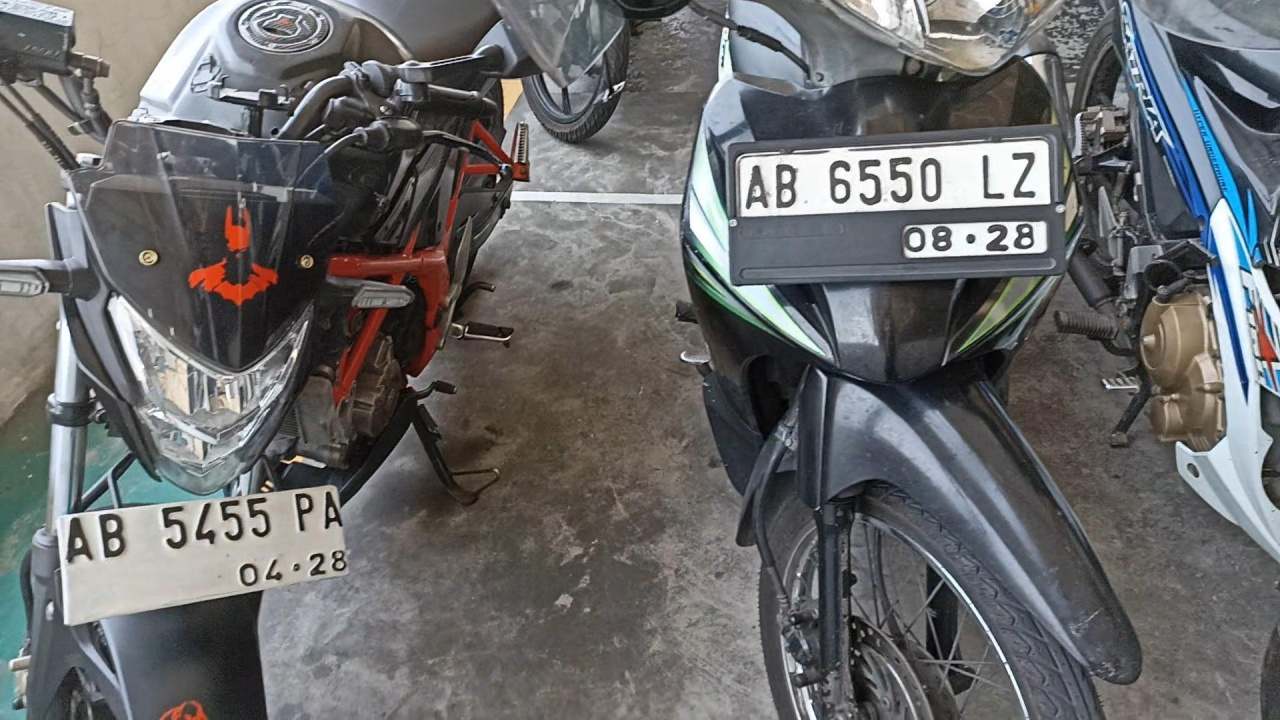plate: (733, 132, 1057, 279), (61, 482, 350, 625)
